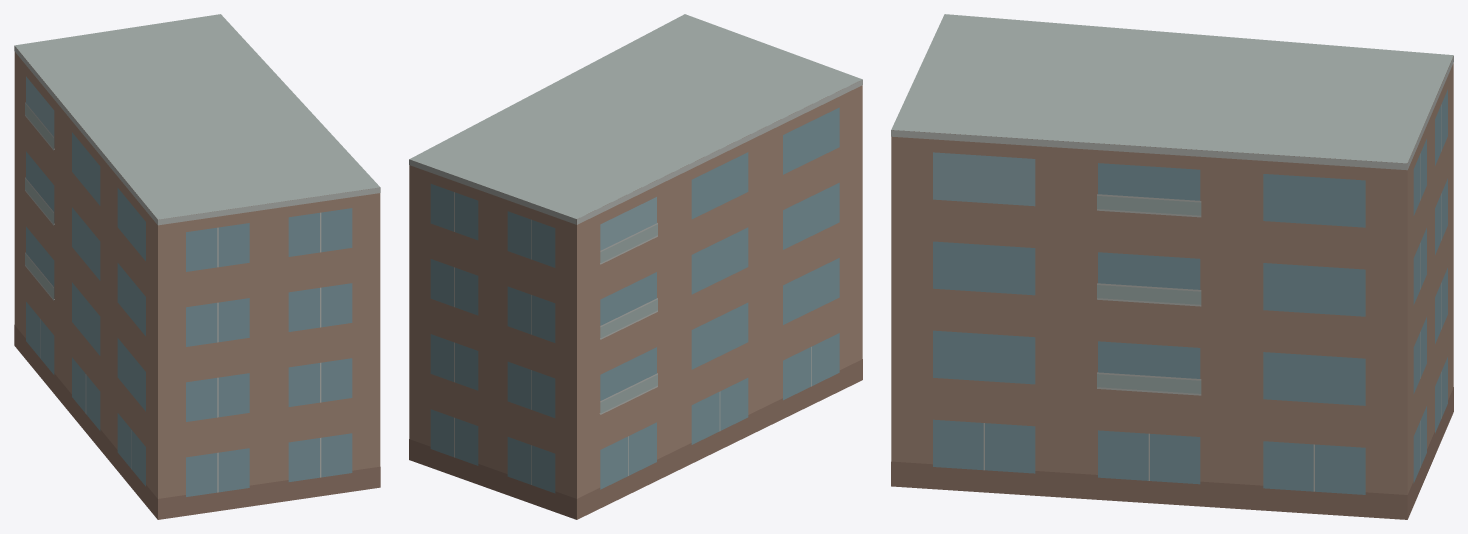
The model's file is survey-upis-32764594.glb.
The picture shows the model from 3 angles, left to right: view 1: azimuth 30°, elevation 25°; view 2: azimuth 150°, elevation 25°; view 3: azimuth 270°, elevation 25°; orthographic projection. The views are drawn at different scales.
Parts seen in each view (by area): view 1: survey-upis-32764594.tmp; view 2: survey-upis-32764594.tmp; view 3: survey-upis-32764594.tmp.
Boxes of the visible parts, x1=… form: survey-upis-32764594.tmp: x1=14, y1=14, x2=380, y2=519; survey-upis-32764594.tmp: x1=409, y1=14, x2=862, y2=519; survey-upis-32764594.tmp: x1=891, y1=14, x2=1453, y2=519.
Size of the model in its own units: 11.52 by 12.8 by 18.32.
